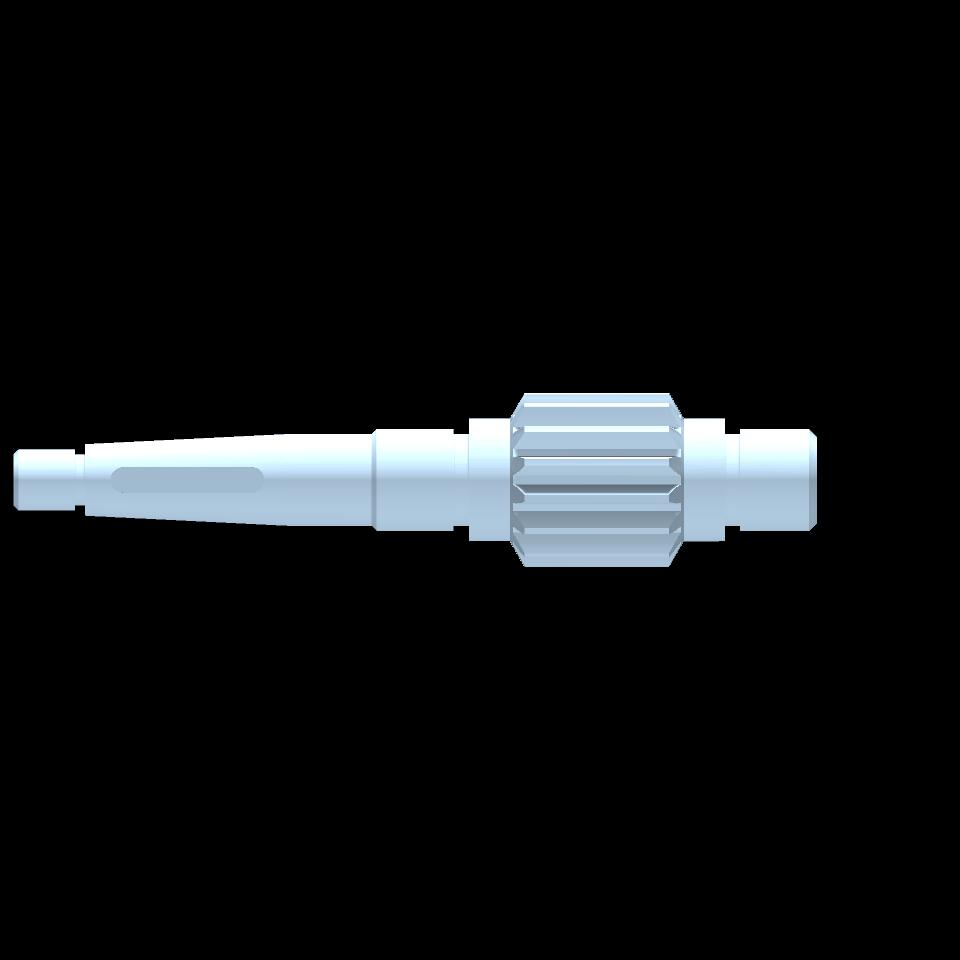Straight: (525, 392, 668, 567)
